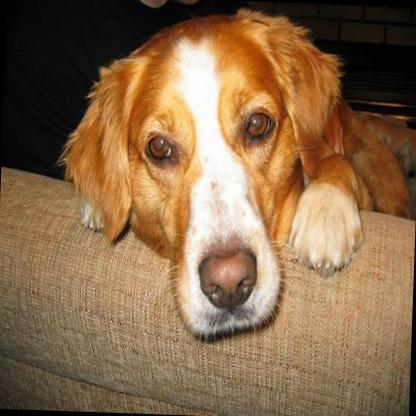Brittany_spaniel: (50, 0, 416, 344)
